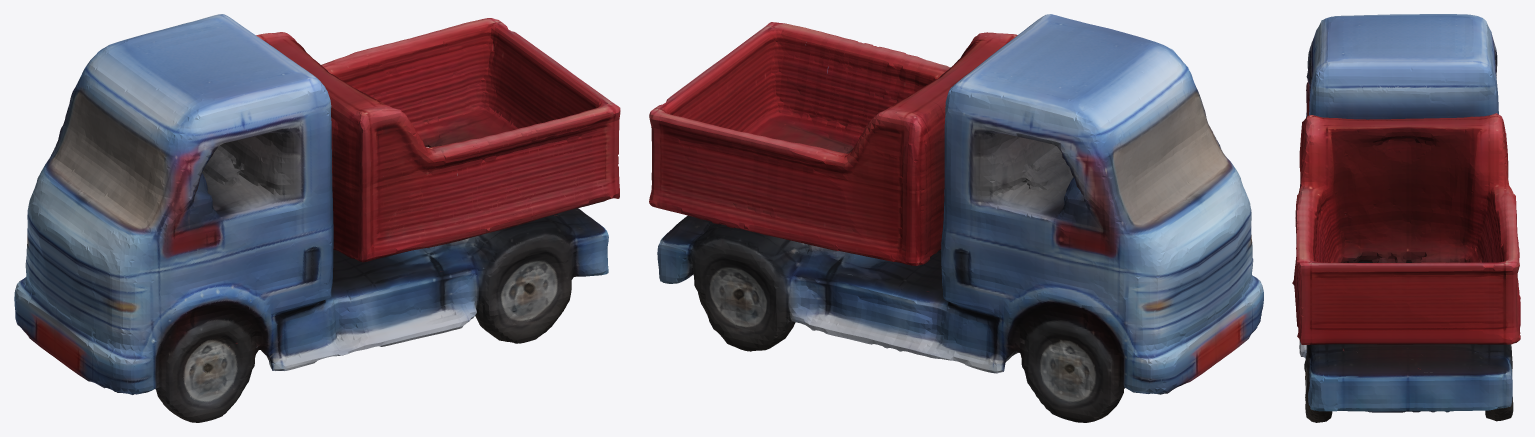
Rendered from airship.glb.
3 views of the same model, side by side, from view 1: azimuth 30°, elevation 25°; view 2: azimuth 150°, elevation 25°; view 3: azimuth 270°, elevation 25° (orthographic). The views are drawn at different scales.
Visible parts, largest first — view 1: input.obj; view 2: input.obj; view 3: input.obj.
Part boxes in pixels (bbox=[...]): input.obj: bbox=[14, 14, 620, 422]; input.obj: bbox=[649, 14, 1263, 422]; input.obj: bbox=[1292, 14, 1520, 422].
Bounding box in the file's own units: 1.69 × 1 × 0.7636.
1 material, 1 textured.
